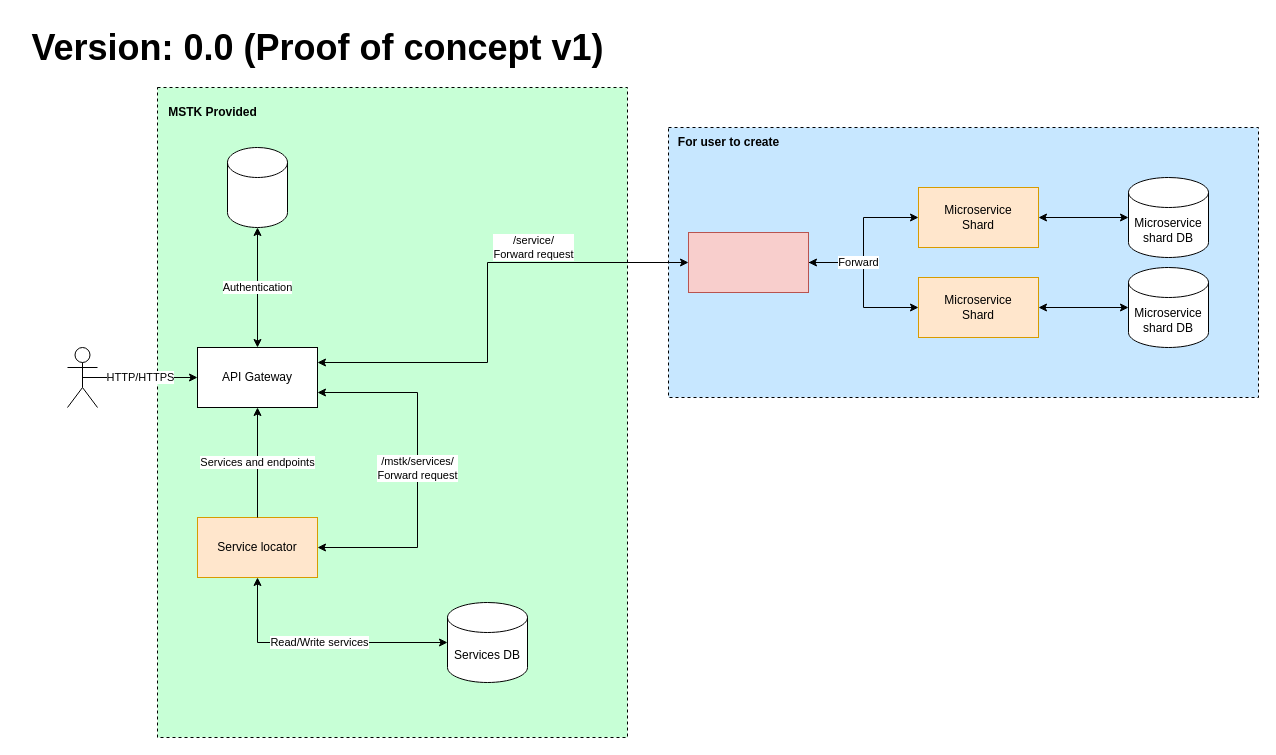
Image size: 1276x755. Some labels were removed from this diagram. Each missing label, with the box of its shape:
Auth DB: (226, 146, 288, 228)
Load balancer: (688, 232, 808, 292)
User: (66, 346, 98, 408)
